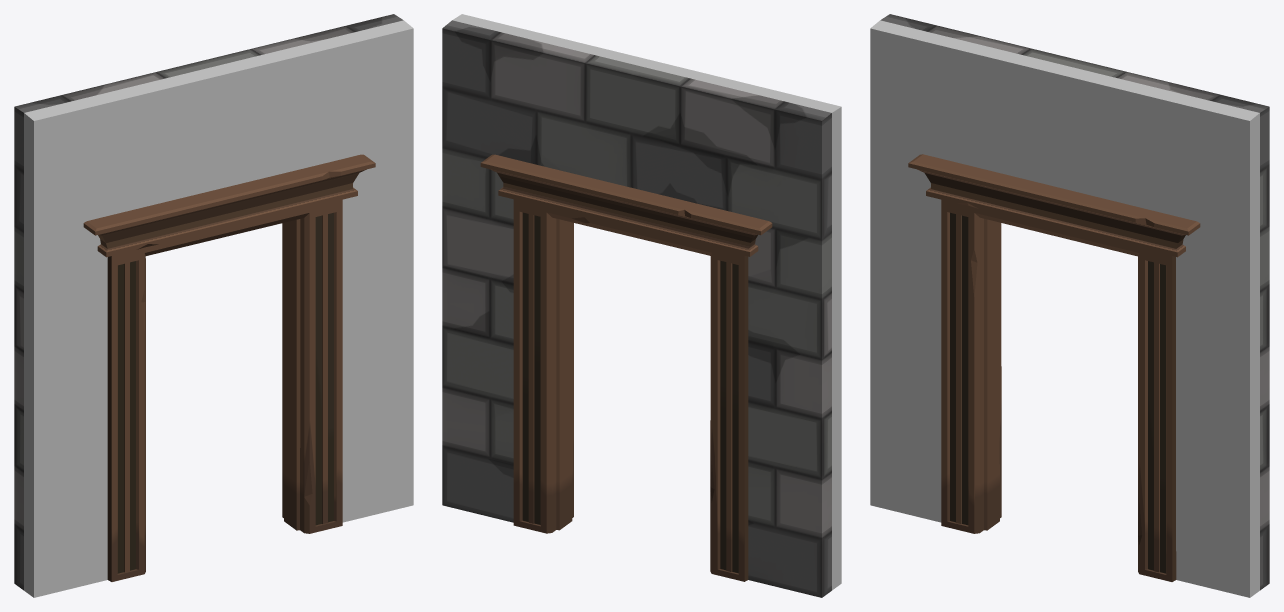
File: SM_Bld_Wall_Door_01.fbx
The picture shows the model from 3 angles, left to right: view 1: azimuth 30°, elevation 25°; view 2: azimuth 150°, elevation 25°; view 3: azimuth 330°, elevation 25°; orthographic projection.
Visible parts, largest first — view 1: SM_Bld_Wall_Door_01; view 2: SM_Bld_Wall_Door_01; view 3: SM_Bld_Wall_Door_01.
Part boxes in pixels (box(x1,y1,x2,y2)): SM_Bld_Wall_Door_01: box(14, 14, 413, 597); SM_Bld_Wall_Door_01: box(442, 14, 841, 597); SM_Bld_Wall_Door_01: box(870, 14, 1269, 597).
Size of the model in its own units: 250 by 301 by 48.49.
